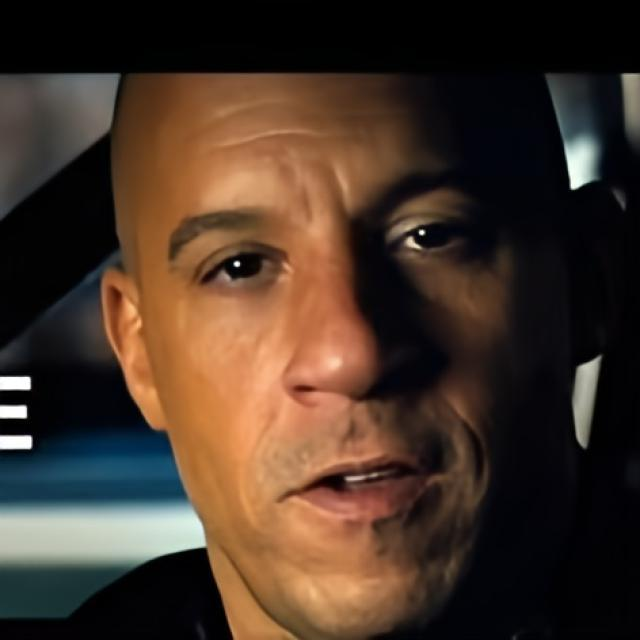surprise: (113, 72, 572, 640)
